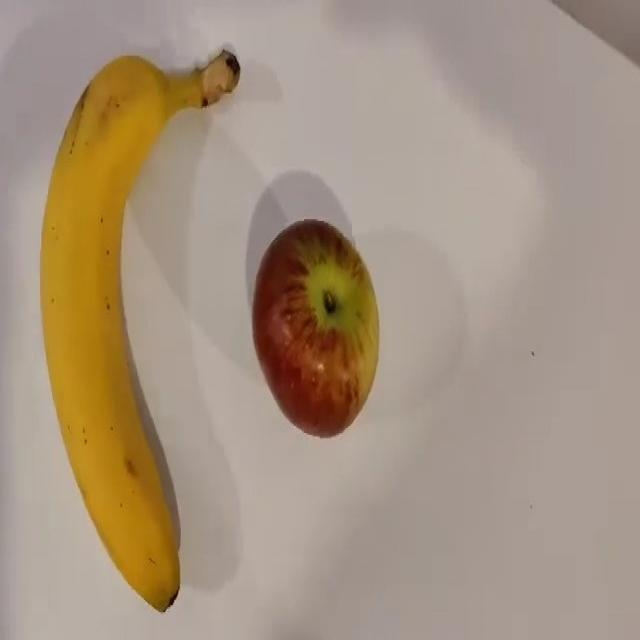Apple: (243, 217, 386, 443)
Banana: (34, 50, 184, 612)
